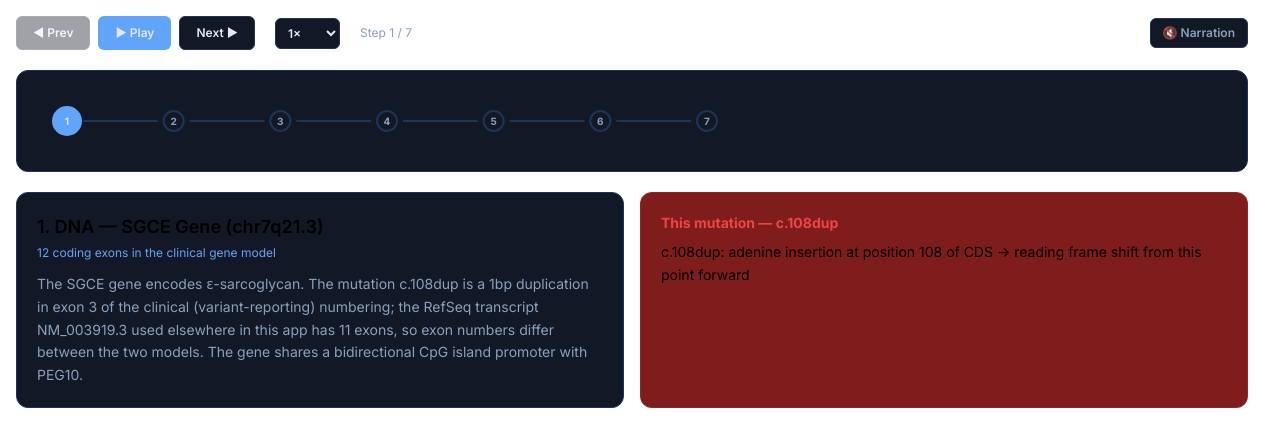
Test: CentralDogma › Prev button goes back from step 2 to step 1
Click the button "Next ▶".
click(217, 33)  # box [179,16,255,50]
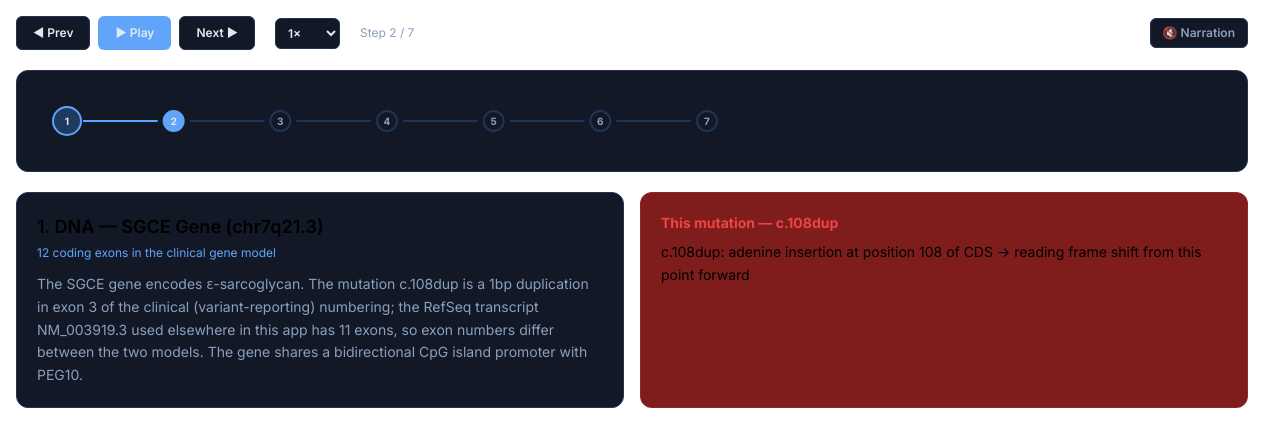
Check: the text "Step 2 / 7" is shown, box [360,25,414,41]
Click the button "◀ Prev".
click(53, 33)  # box [16,16,90,50]
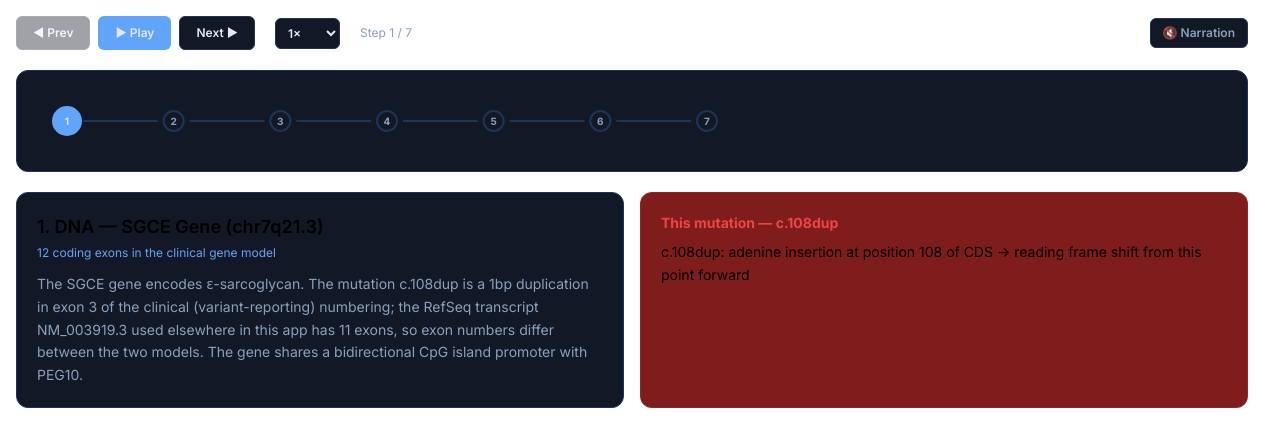
Check: the heading "1. DNA — SGCE Gene (chr7q21.3)" is shown, box [37,216,324,237]
Check: the text "Step 1 / 7" is shown, box [360,25,412,41]
